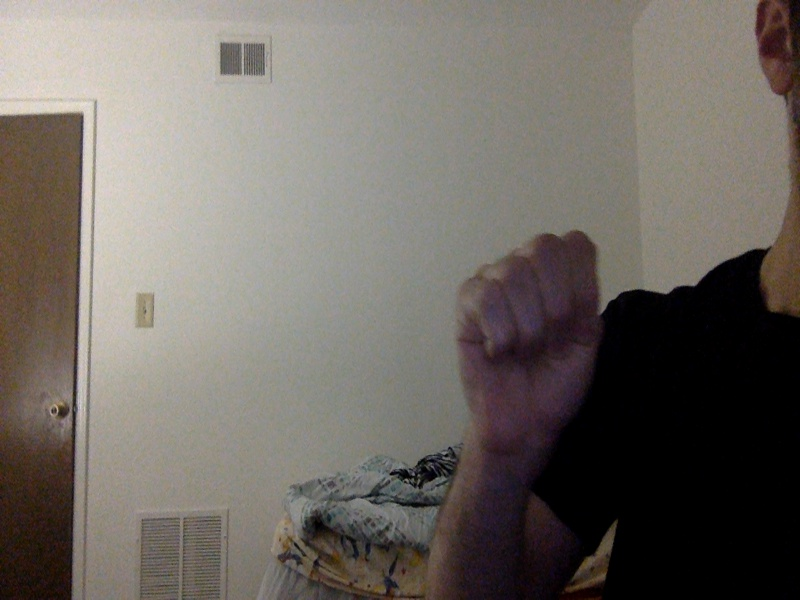0-hand: (455, 232, 607, 459)
